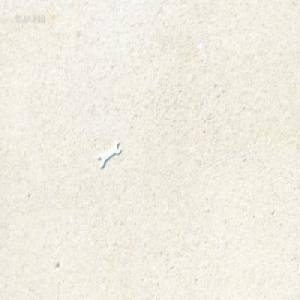Wrench: (97, 137, 121, 166)
